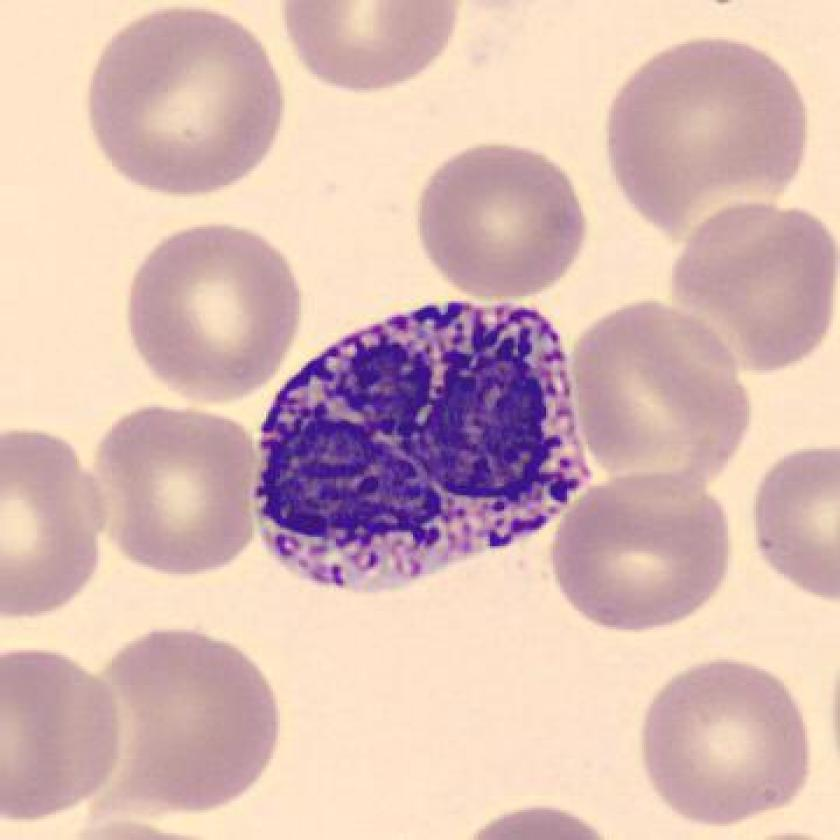basophil: (251, 293, 591, 591)
